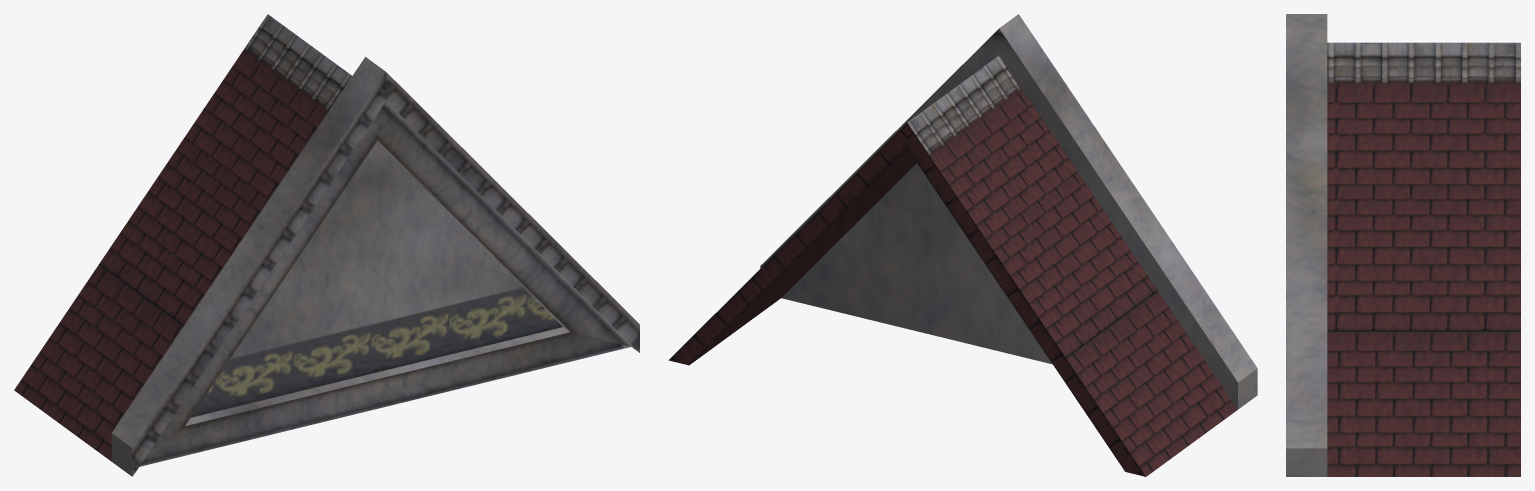
File: rooftop_02.fbx
3 renders of one model, left to right at view 1: azimuth 30°, elevation 25°; view 2: azimuth 150°, elevation 25°; view 3: azimuth 270°, elevation 25°, orthographic. The views are drawn at different scales.
Parts seen in each view (by area): view 1: rooftop_02; view 2: rooftop_02; view 3: rooftop_02.
Part boxes in pixels (box(x1,y1,x2,y2)): rooftop_02: box(14, 14, 639, 476); rooftop_02: box(668, 14, 1257, 476); rooftop_02: box(1286, 14, 1520, 476).
Bounding box in the file's own units: 2400 × 1551 × 970.
